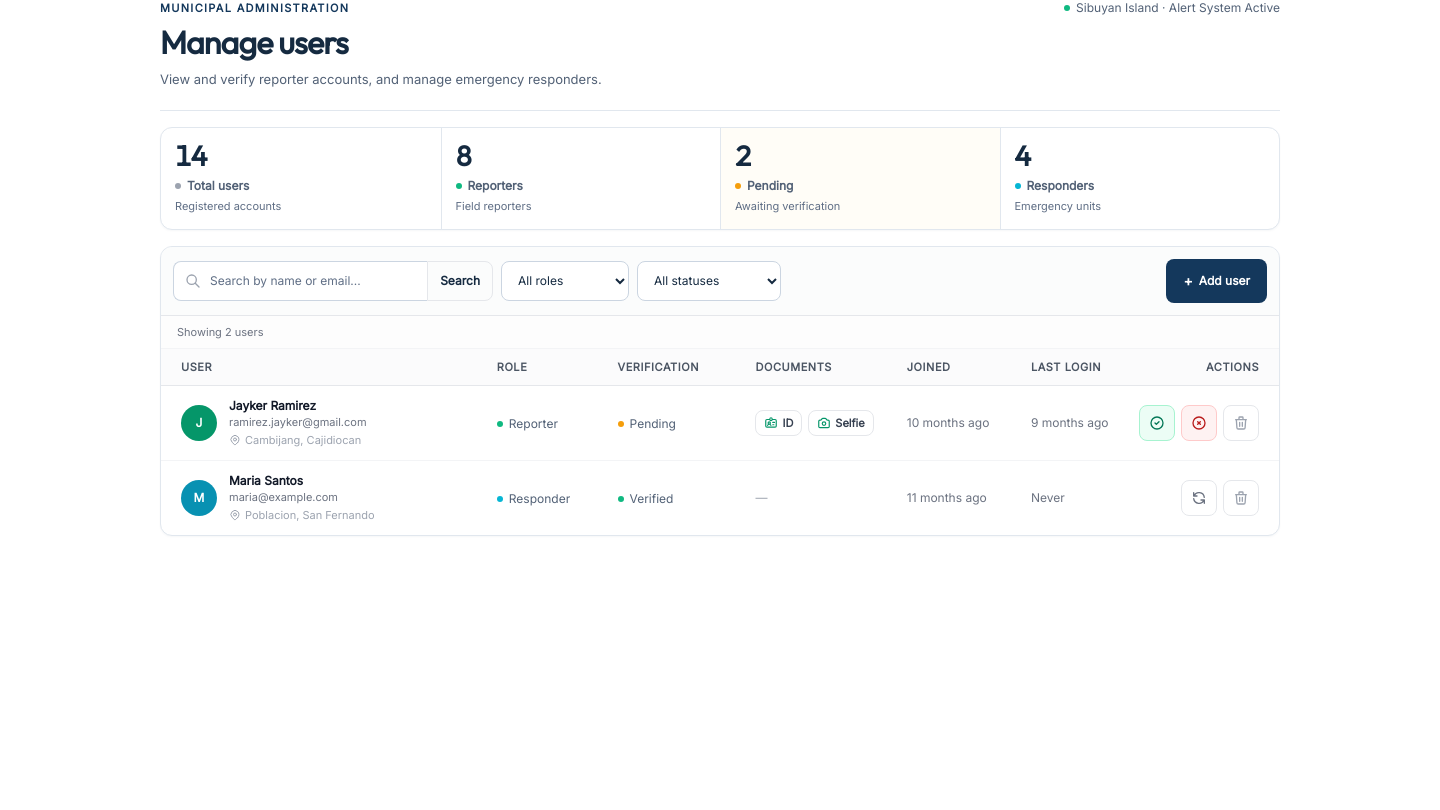
Test case: AdminUsersPage › add responder › marks the field the server rejected instead of only showing a banner
The width and height of the screenshot is (1440, 810).
Click the button with aria-label "Add a user account": (1217,281) [1166,259,1267,303]
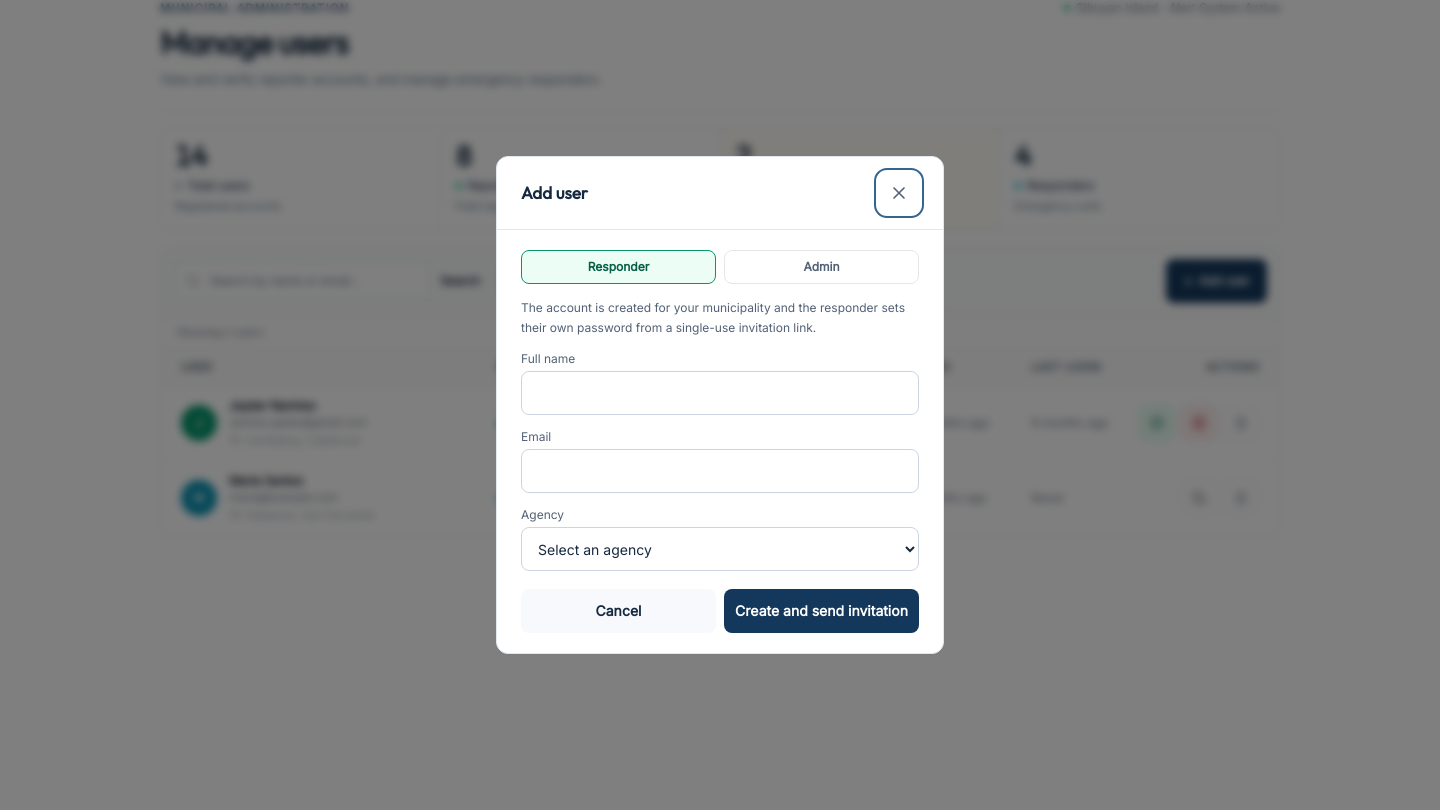
Now the heading "Add user" is shown, box [521,181,588,205]
In the field labelled "Full name": (720,393) [521,371,919,415], type "Juan Dela Cruz"
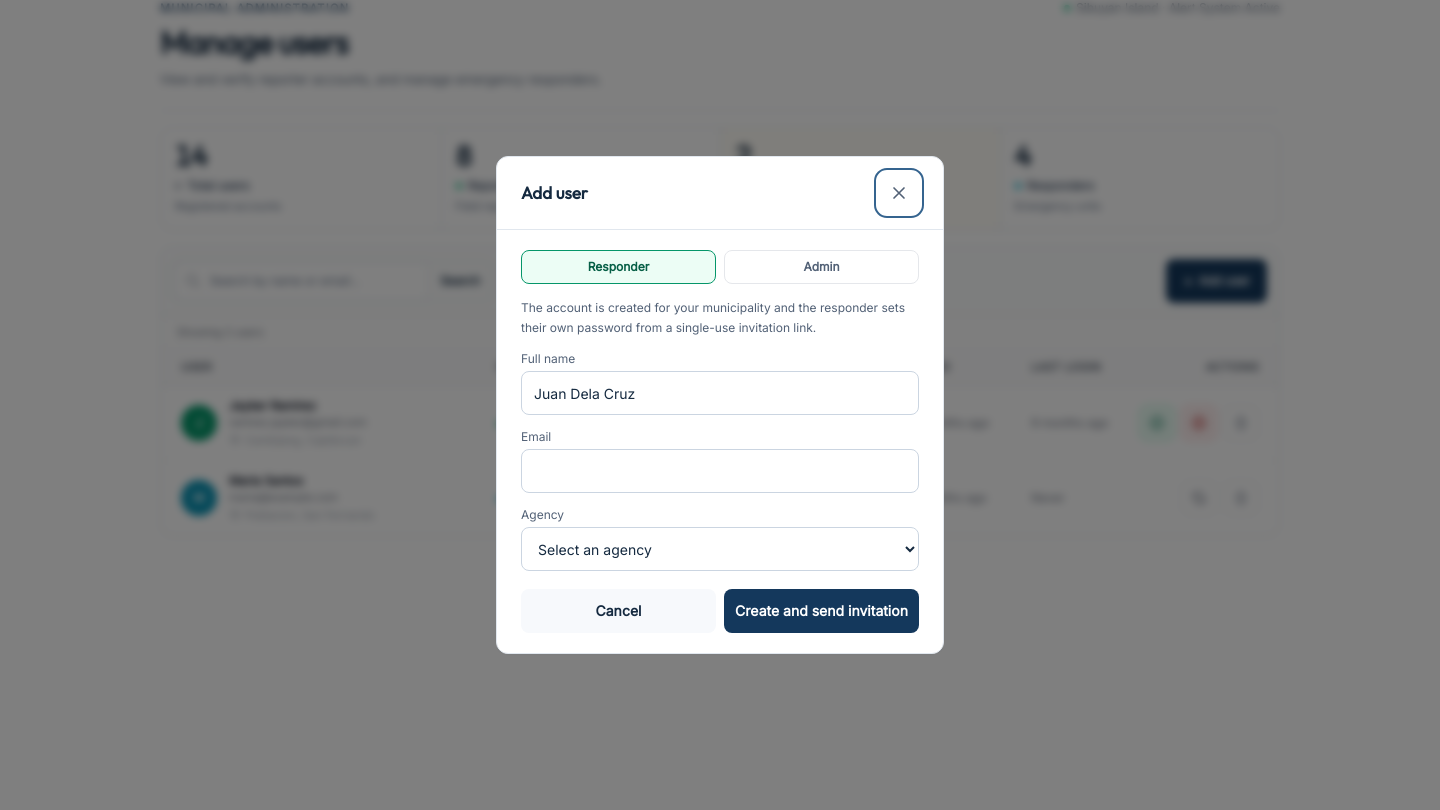
In the field labelled "Email": (720,471) [521,449,919,493], type "juan@example.com"
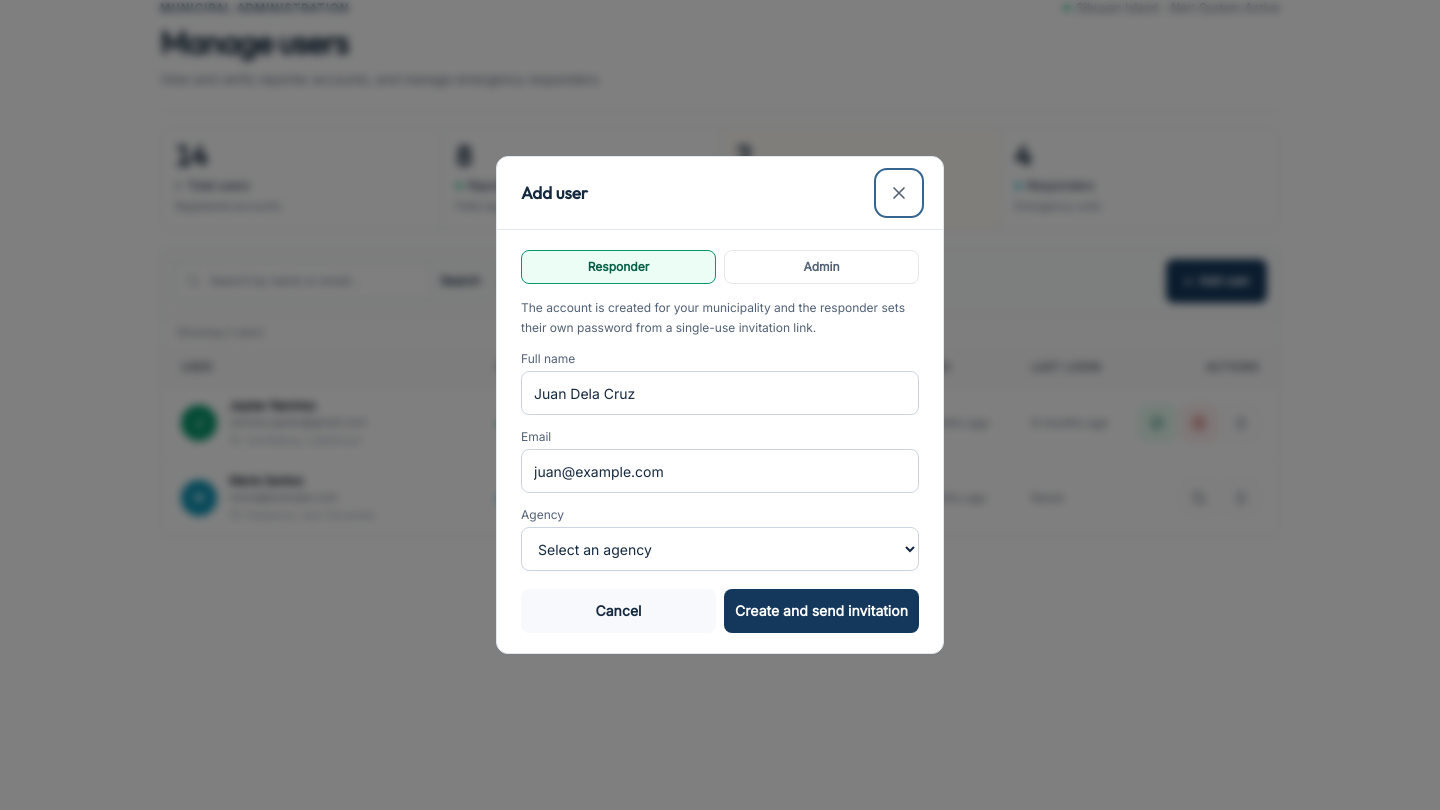
Select "MDRRMO" in the dropdown labelled "Agency": (720,549) [521,527,919,571]
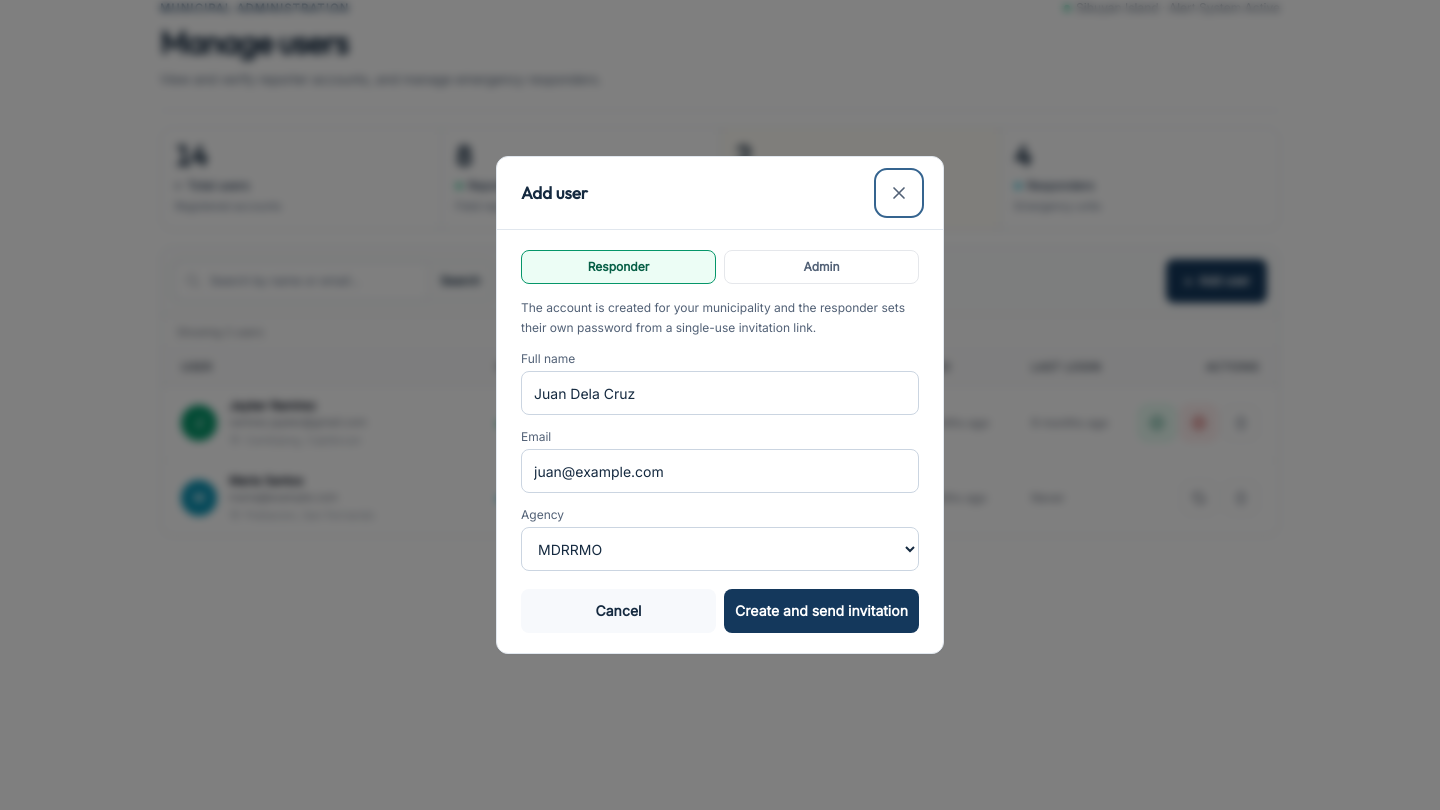
Click the button "Create and send invitation": (822,611) [724,589,919,633]
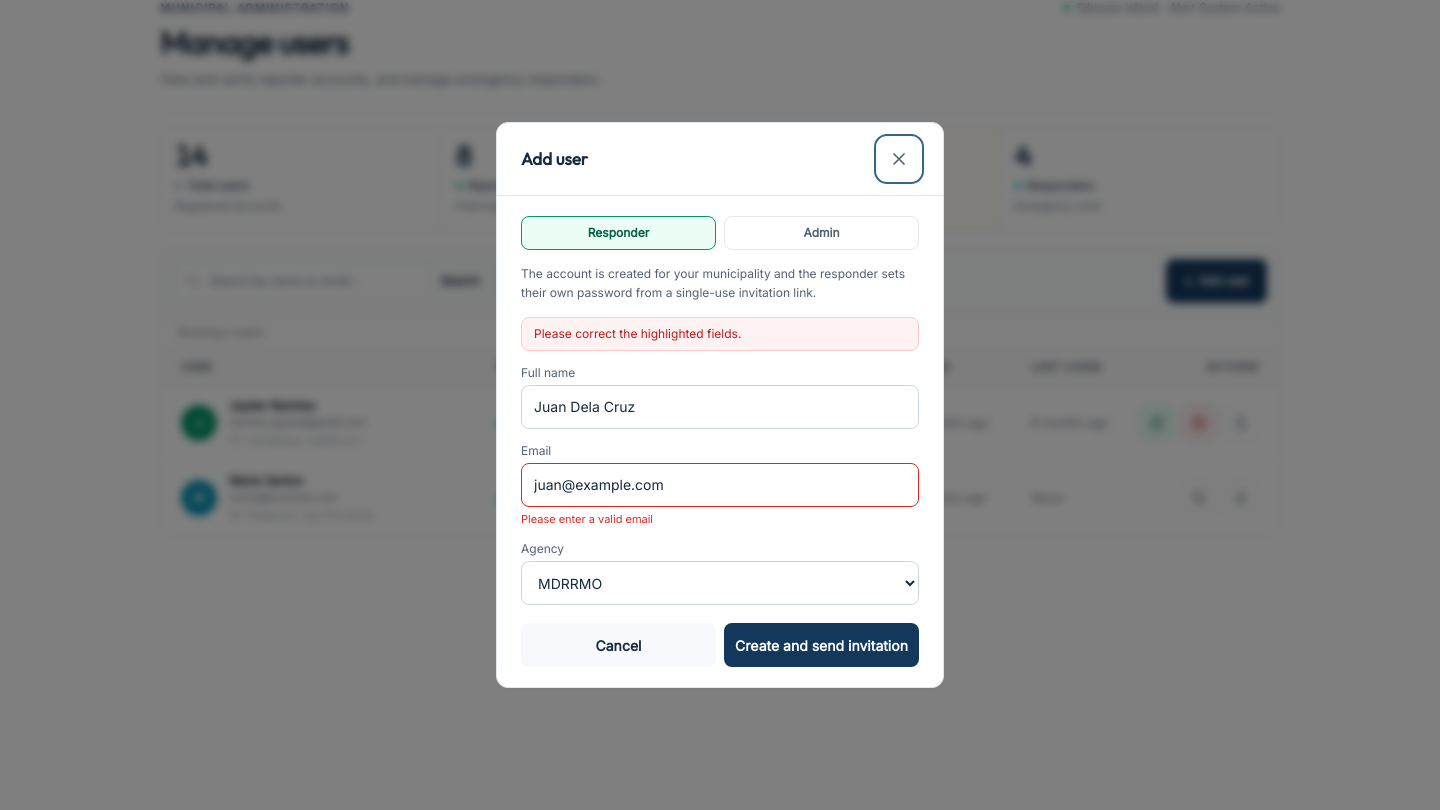
Now the text "Please enter a valid email" is shown, box [521,512,653,526]
